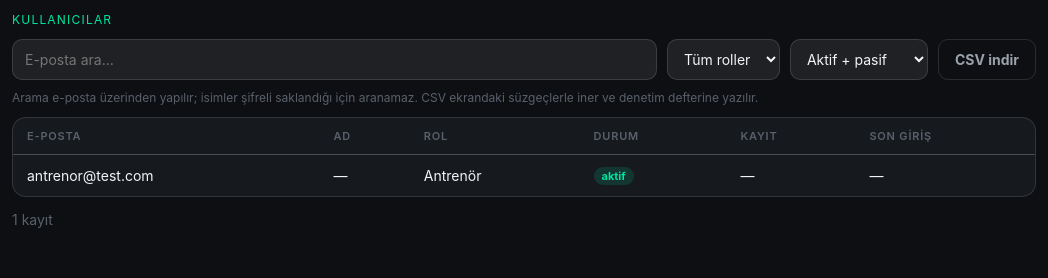
Test: UsersPage Bileşen Testleri › dışa aktarma başarısız olursa hata görünür
Expected: the text "antrenor@test.com" is shown, left=13, top=154, right=320, bottom=196
Step 1. Click the button "CSV indir" → (987, 60), box left=938, top=39, right=1036, bottom=80
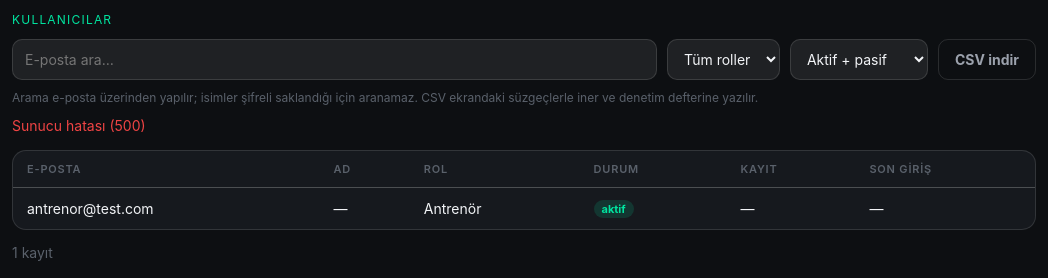
Expected: the text "Sunucu hatası (500)" is shown, left=12, top=117, right=146, bottom=134
